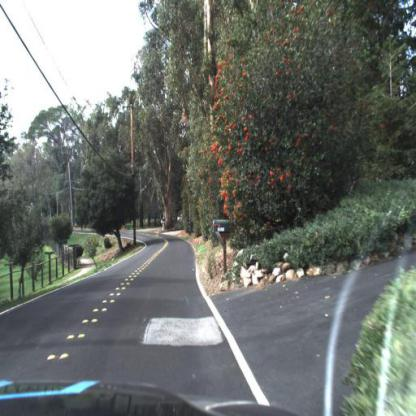car: (174, 211, 188, 235)
